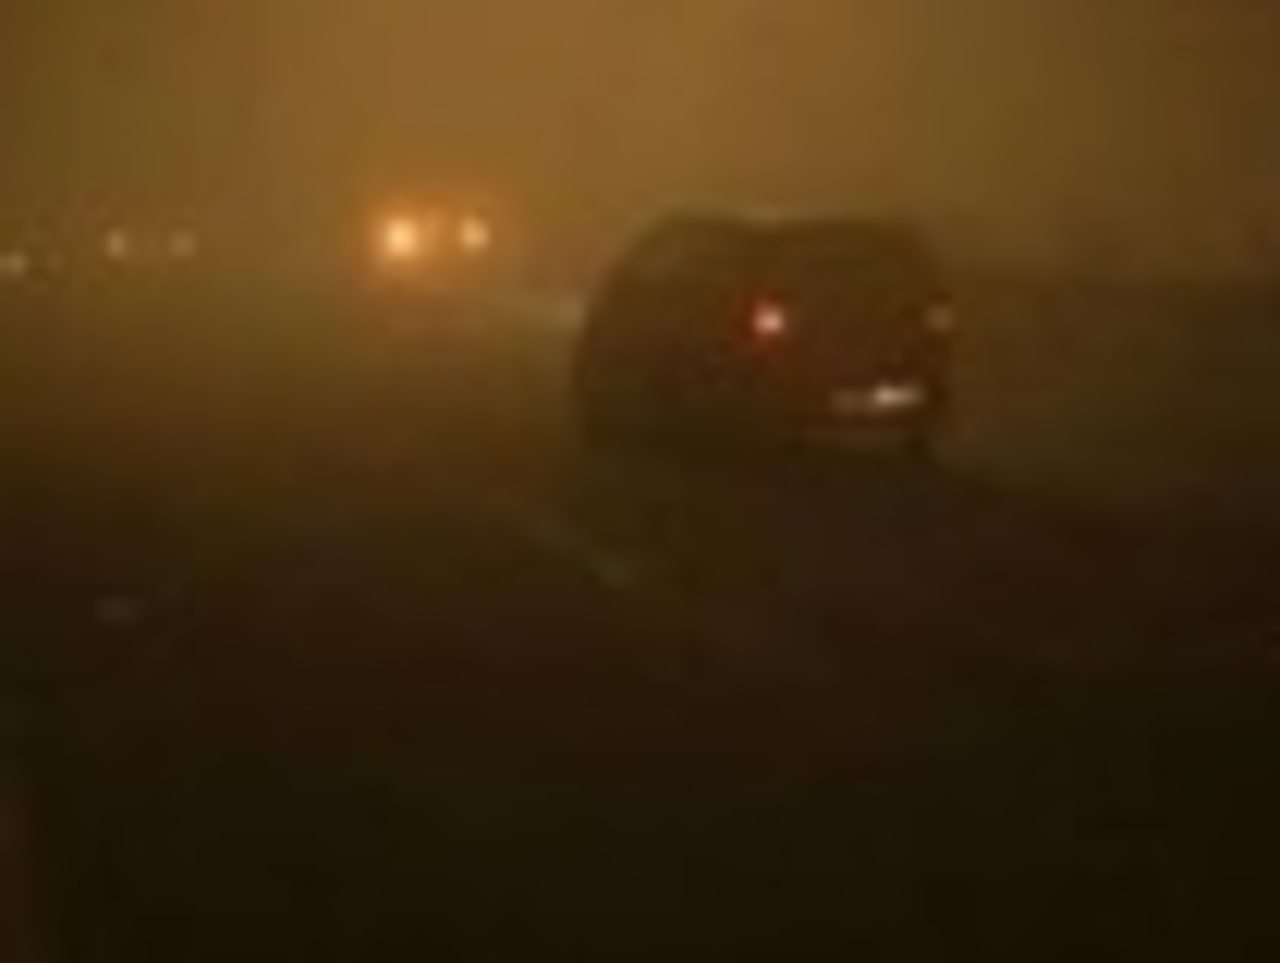car: (567, 204, 958, 462)
